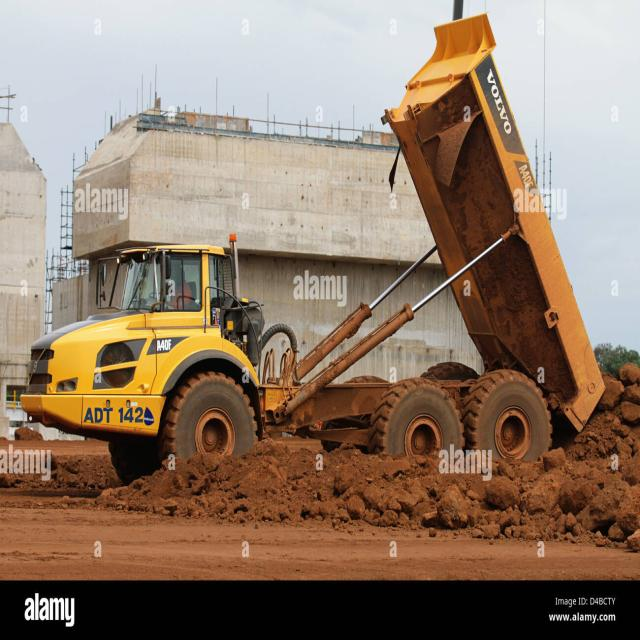dump_truck: (37, 24, 607, 468)
